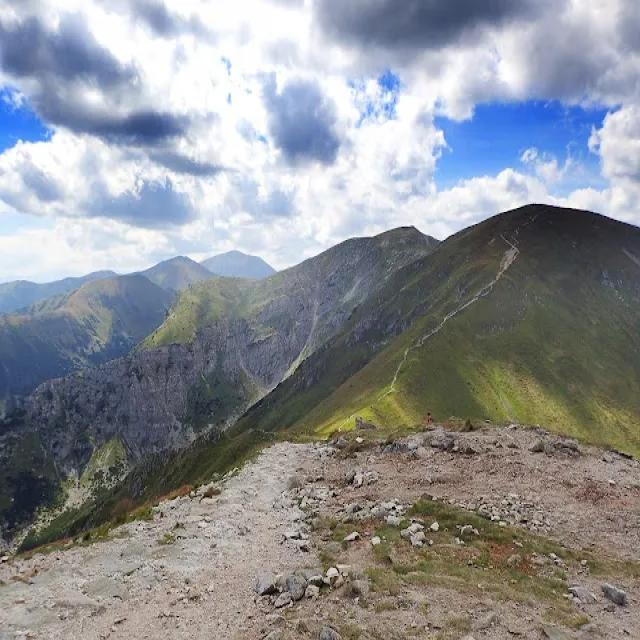Ciemniak: (203, 226, 272, 276)
Krzesanica: (369, 190, 449, 264)
Malolaczniak: (447, 138, 629, 272)
